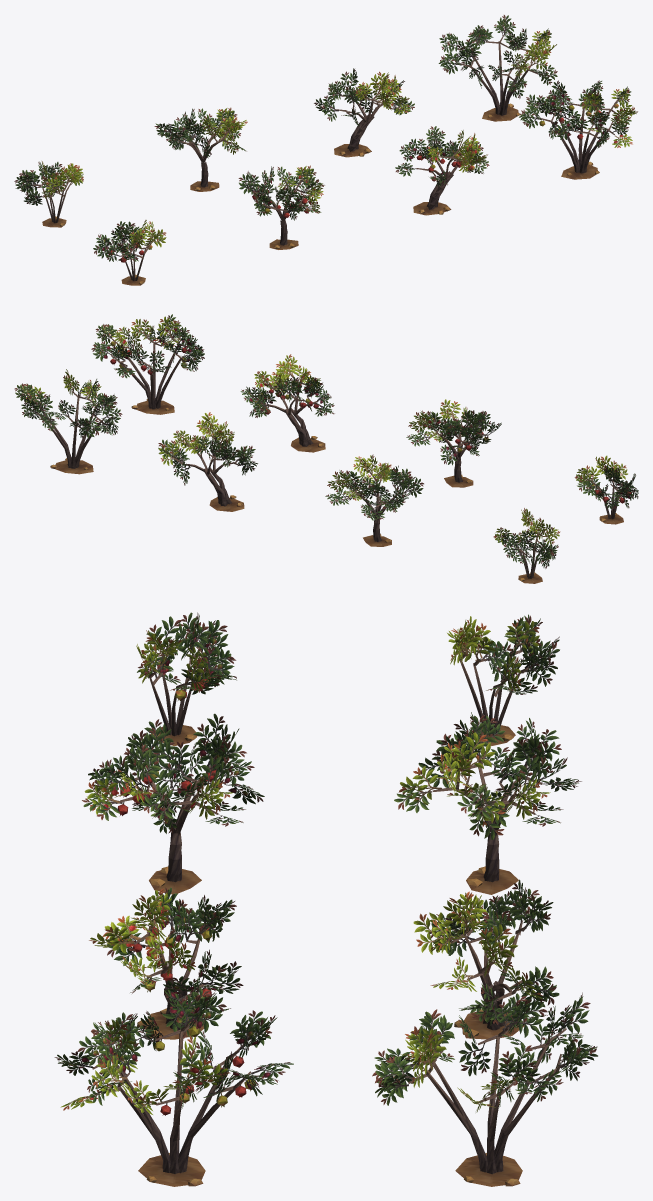
Rendered from romanzeiras.glb.
3 views of the same model, one above another, from view 1: azimuth 30°, elevation 25°; view 2: azimuth 150°, elevation 25°; view 3: azimuth 270°, elevation 25° (orthographic). The views are drawn at different scales.
Parts seen in each view (by area): view 1: Romanzeira4_Aberta_ComFruta, Romanzeira4_Aberta_SemFruta, Romanzeira3_Retorcida_SemFruta, Romanzeira3_Retorcida_ComFruta, Romanzeira2_Pomar_ComFruta, Romanzeira2_Pomar_SemFruta, Romanzeira1_Jovem_ComFruta, Romanzeira1_Jovem_SemFruta; view 2: Romanzeira4_Aberta_ComFruta, Romanzeira4_Aberta_SemFruta, Romanzeira3_Retorcida_SemFruta, Romanzeira3_Retorcida_ComFruta, Romanzeira2_Pomar_SemFruta, Romanzeira2_Pomar_ComFruta, Romanzeira1_Jovem_SemFruta, Romanzeira1_Jovem_ComFruta; view 3: Romanzeira4_Aberta_ComFruta, Romanzeira4_Aberta_SemFruta, Romanzeira2_Pomar_ComFruta, Romanzeira2_Pomar_SemFruta, Romanzeira3_Retorcida_SemFruta, Romanzeira3_Retorcida_ComFruta, Romanzeira1_Jovem_ComFruta, Romanzeira1_Jovem_SemFruta.
Boxes of the visible parts, x1,y1,x2,y2 form: Romanzeira4_Aberta_ComFruta: (519, 80, 637, 179); Romanzeira4_Aberta_SemFruta: (438, 15, 557, 121); Romanzeira3_Retorcida_SemFruta: (314, 68, 414, 157); Romanzeira3_Retorcida_ComFruta: (395, 126, 489, 215); Romanzeira2_Pomar_ComFruta: (238, 165, 324, 249); Romanzeira2_Pomar_SemFruta: (154, 107, 247, 191); Romanzeira1_Jovem_ComFruta: (93, 220, 166, 285); Romanzeira1_Jovem_SemFruta: (14, 161, 83, 227); Romanzeira4_Aberta_ComFruta: (91, 314, 204, 414); Romanzeira4_Aberta_SemFruta: (14, 369, 122, 474); Romanzeira3_Retorcida_SemFruta: (158, 412, 257, 511); Romanzeira3_Retorcida_ComFruta: (240, 354, 334, 452); Romanzeira2_Pomar_SemFruta: (325, 454, 423, 546); Romanzeira2_Pomar_ComFruta: (406, 399, 501, 487); Romanzeira1_Jovem_SemFruta: (493, 508, 560, 583); Romanzeira1_Jovem_ComFruta: (574, 455, 638, 524); Romanzeira4_Aberta_ComFruta: (54, 987, 293, 1186); Romanzeira4_Aberta_SemFruta: (372, 992, 597, 1186); Romanzeira2_Pomar_ComFruta: (82, 713, 264, 894); Romanzeira2_Pomar_SemFruta: (394, 712, 581, 894); Romanzeira3_Retorcida_SemFruta: (413, 879, 559, 1039); Romanzeira3_Retorcida_ComFruta: (89, 887, 243, 1039); Romanzeira1_Jovem_ComFruta: (136, 612, 236, 746); Romanzeira1_Jovem_SemFruta: (447, 614, 559, 745).
Bounding box in the file's own units: 23.21 × 3.41 × 10.31.
Materials: 2 (2 with a texture image).
